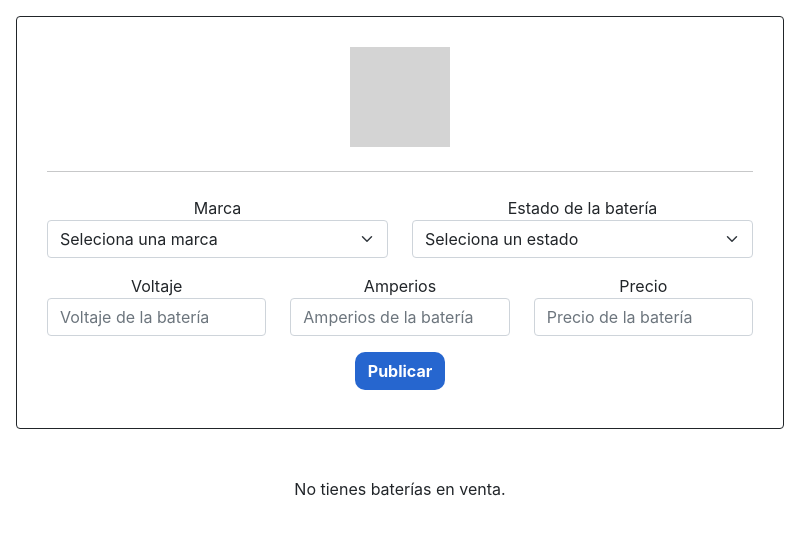
Test case: <FormularioBaterias /> Cargando formulario y haciendo testing.
This screenshot has width=801, height=537.
Click the button with test id "botonBateria".
click(400, 371)  # box [355,352,445,390]
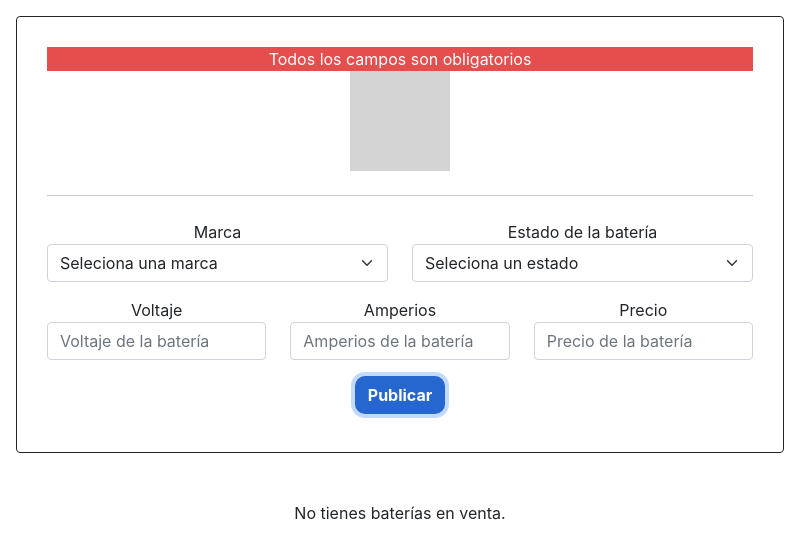
Expected: the text with test id "alerta" reads "Todos los campos son obligatorios", [269,49,531,69]
